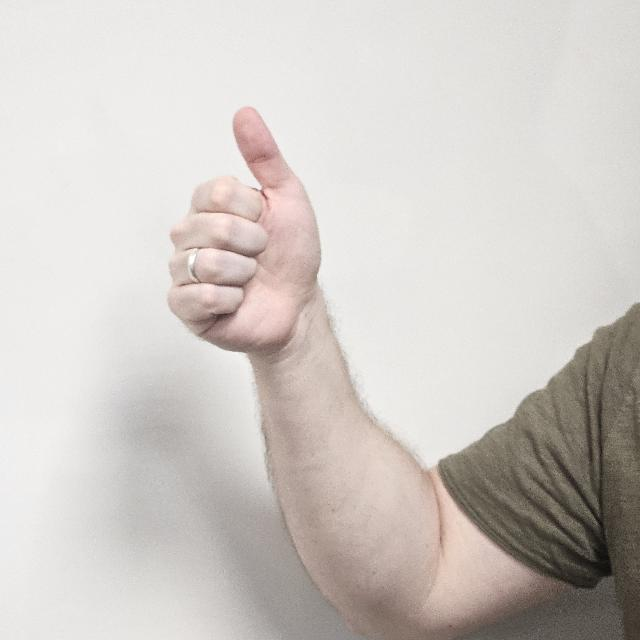Start: (169, 96, 331, 397)
